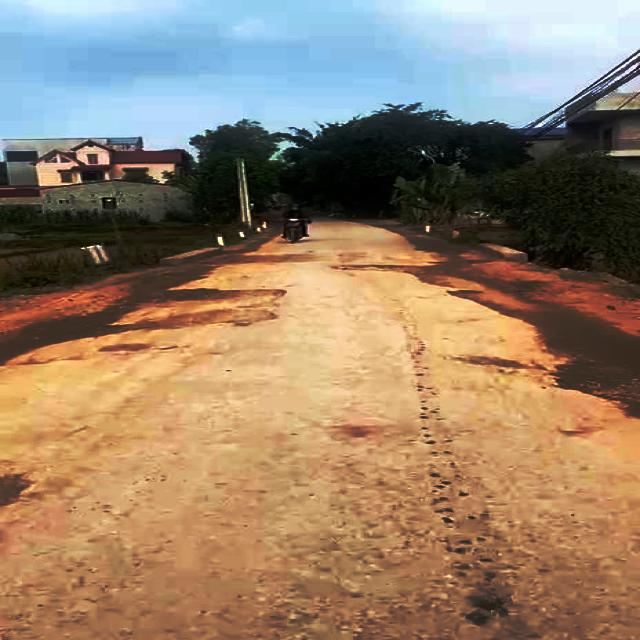pothole: (551, 361, 640, 418)
